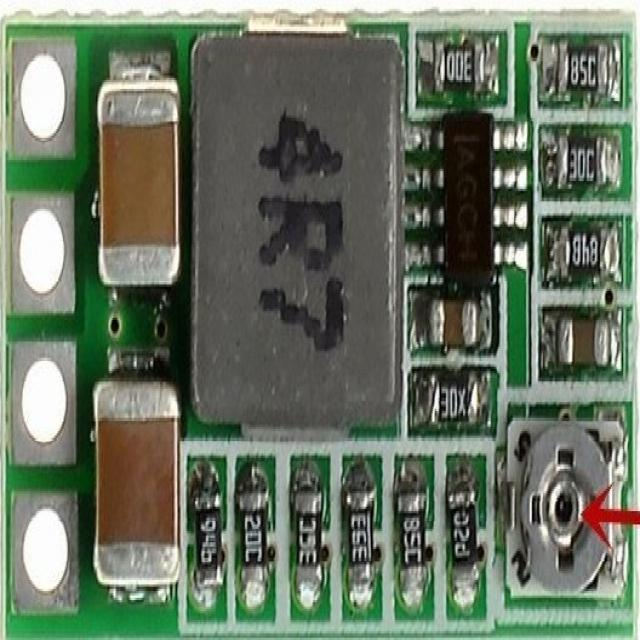IC: (429, 107, 515, 290)
capacitor 1V5: (88, 75, 185, 302), (93, 373, 183, 607), (420, 294, 488, 346), (553, 318, 608, 363)
inductor F1: (184, 27, 409, 441)
potentiometer POT1: (509, 416, 632, 599)
resistor IR1: (234, 469, 268, 595), (192, 473, 226, 597), (291, 474, 325, 593), (427, 364, 485, 430), (450, 476, 485, 580), (554, 123, 612, 185), (547, 39, 610, 96), (431, 37, 488, 97), (554, 219, 616, 272), (345, 475, 374, 582), (398, 481, 429, 579)
